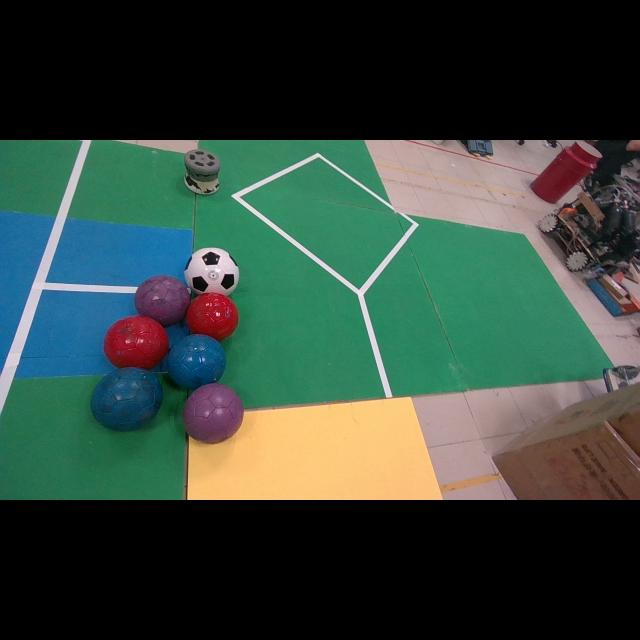B: (90, 368, 164, 431), (168, 334, 226, 389)
P: (182, 382, 244, 444), (135, 275, 190, 327)
R: (104, 315, 169, 370), (186, 292, 239, 340)
